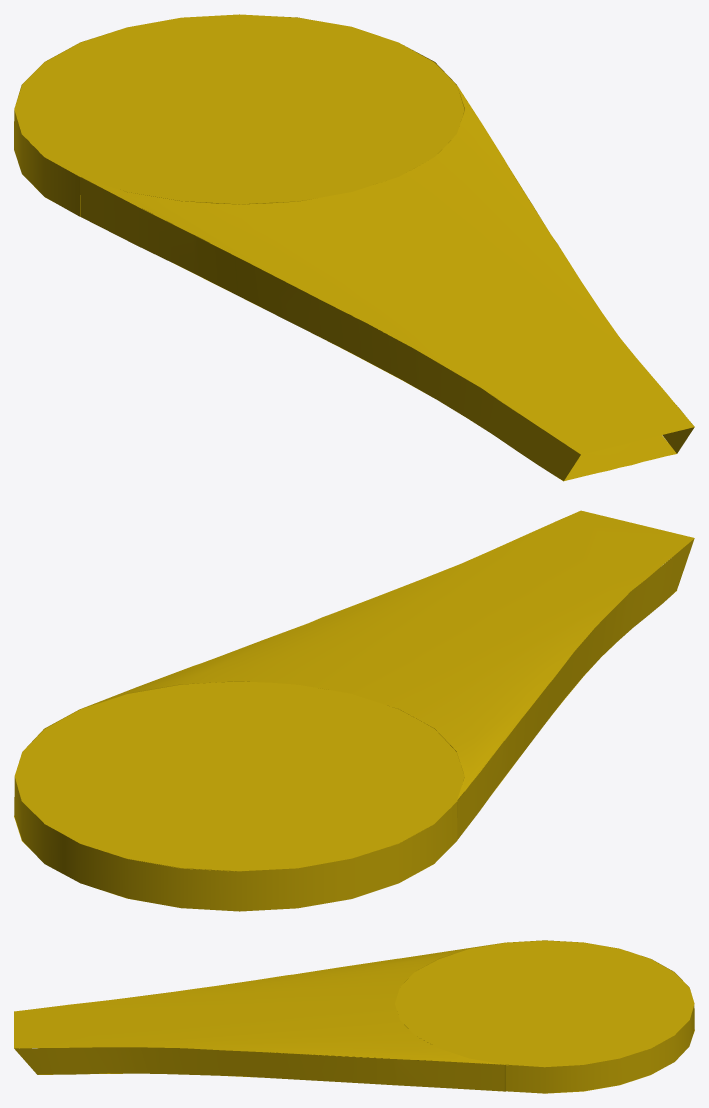
The model's file is original_15.obj.
3 views of the same model, one above another, from view 1: azimuth 30°, elevation 25°; view 2: azimuth 150°, elevation 25°; view 3: azimuth 270°, elevation 25° (orthographic). The views are drawn at different scales.
Visible parts, largest first — view 1: group_14/ID104#ID104; view 2: group_14/ID104#ID104; view 3: group_14/ID104#ID104.
Boxes of the visible parts, x1,y1,x2,y2 form: group_14/ID104#ID104: [14, 14, 694, 481]; group_14/ID104#ID104: [14, 510, 694, 911]; group_14/ID104#ID104: [14, 940, 694, 1093].
Bounding box in the file's own units: 0.1696 × 0.0332 × 0.3846.
